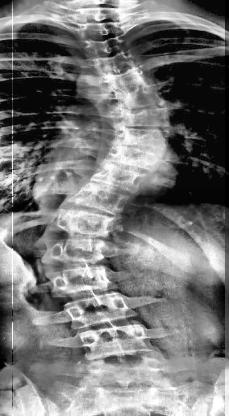Vertebrae: (71, 326, 161, 364), (36, 235, 116, 266), (110, 99, 180, 131), (63, 293, 137, 323), (99, 136, 165, 168), (97, 80, 172, 108), (65, 176, 126, 210), (44, 270, 116, 298), (49, 206, 111, 238), (90, 65, 161, 91), (94, 161, 148, 193), (109, 117, 170, 145), (85, 50, 139, 76), (75, 34, 129, 52), (78, 16, 126, 36)
